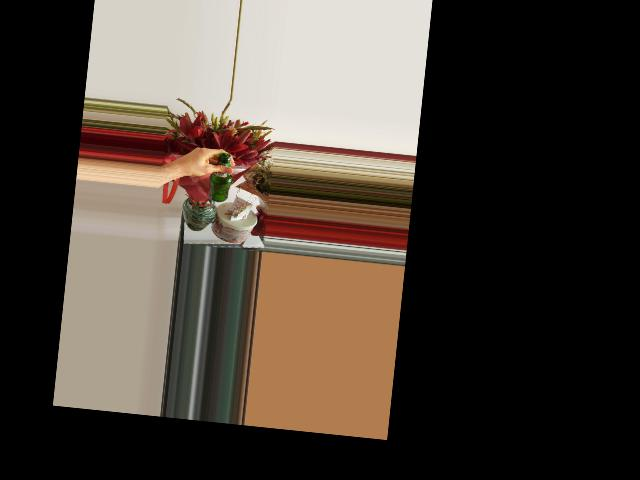beer: (208, 152, 235, 203)
